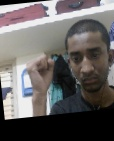hand: (25, 53, 56, 94)
